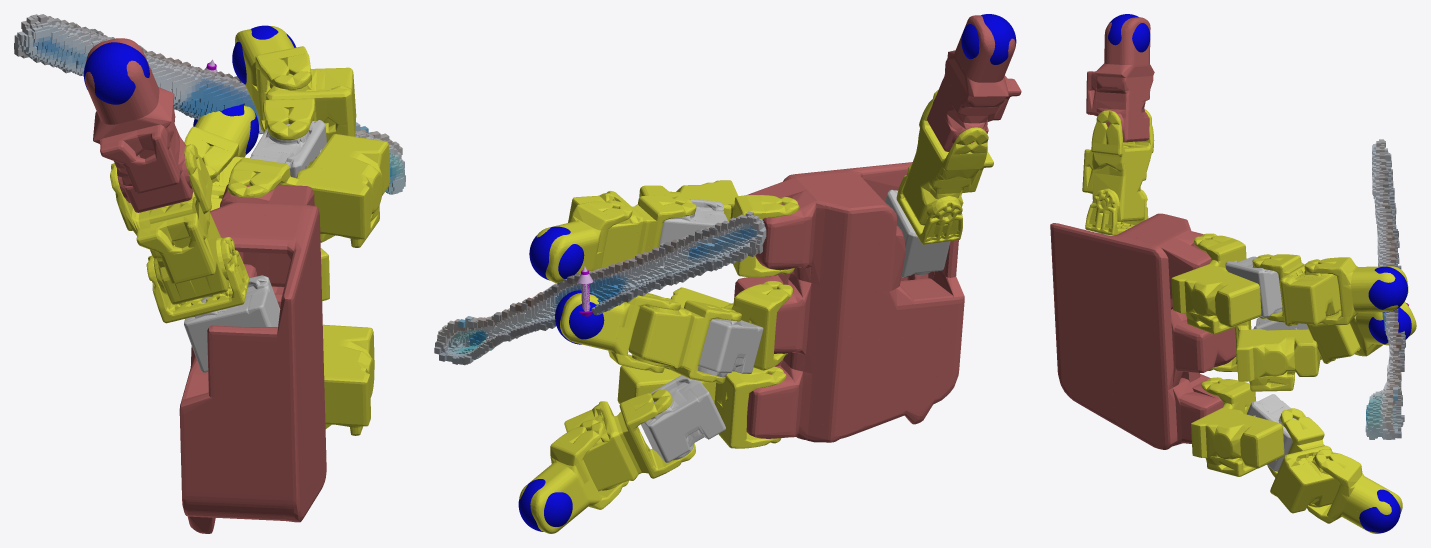
Rendered from hand_opt_res_obj.glb.
3 views of the same model, side by side, from view 1: azimuth 30°, elevation 25°; view 2: azimuth 150°, elevation 25°; view 3: azimuth 270°, elevation 25° (orthographic). The views are drawn at different scales.
Visible parts, largest first — view 1: world; view 2: world; view 3: world.
Boxes of the visible parts, left/top/right/bottom form: world: left=14, top=14, right=405, bottom=533; world: left=434, top=14, right=1021, bottom=533; world: left=1050, top=14, right=1416, bottom=533.
Size of the model in its own units: 0.2357 by 0.2558 by 0.2142.
